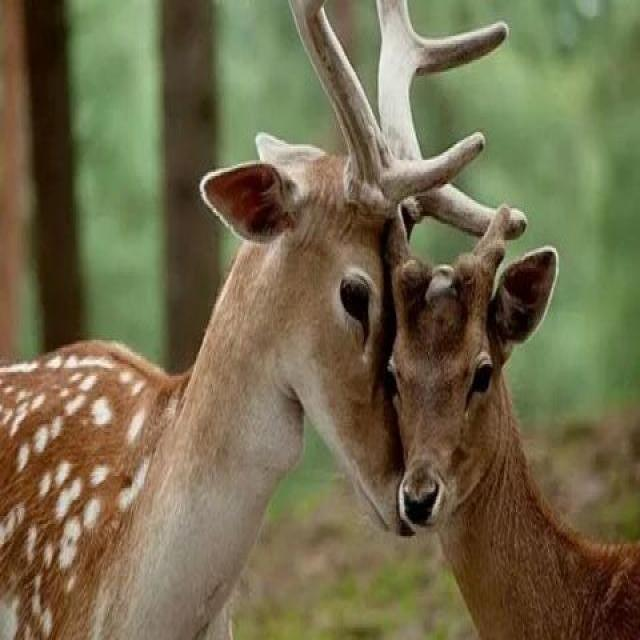deer: (11, 101, 414, 567), (348, 193, 627, 640)
